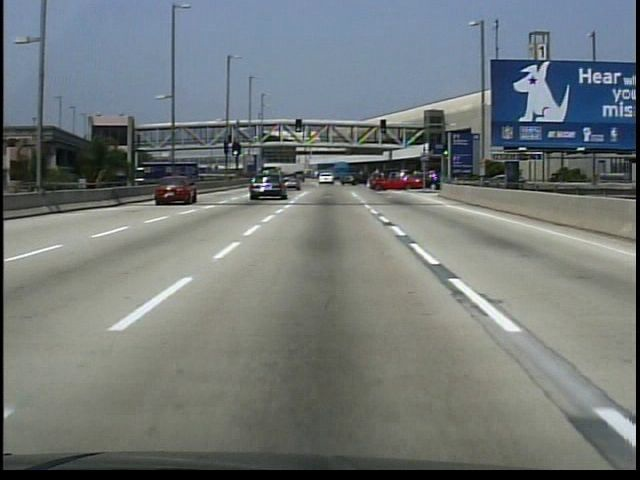person: (227, 133, 233, 146)
